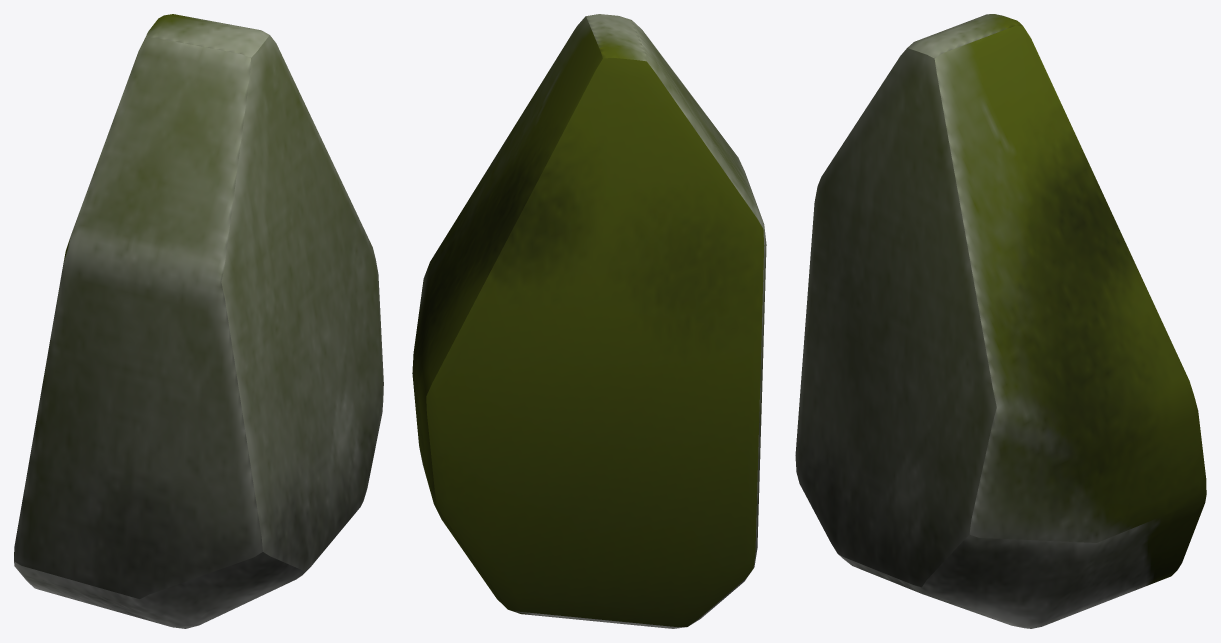
File: rock6_unity.fbx
The picture shows the model from 3 angles, left to right: view 1: azimuth 30°, elevation 25°; view 2: azimuth 150°, elevation 25°; view 3: azimuth 270°, elevation 25°; orthographic projection. The views are drawn at different scales.
Visible parts, largest first — view 1: Object006; view 2: Object006; view 3: Object006.
Part boxes in pixels (x1=…): Object006: x1=14, y1=14, x2=383, y2=628; Object006: x1=412, y1=14, x2=766, y2=628; Object006: x1=795, y1=14, x2=1206, y2=628.
Size of the model in its own units: 18.94 by 18.88 by 29.54.
Materials: 1 (1 with a texture image).
